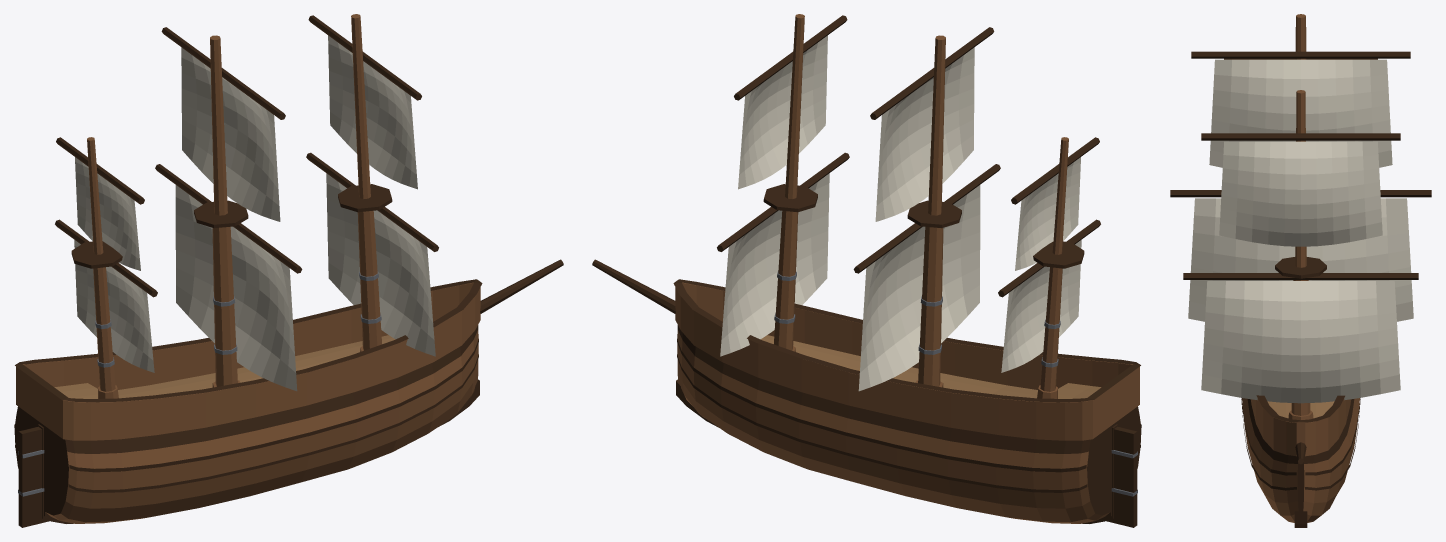
Rendered from SN_Ship_Prototype.glb.
3 views of the same model, side by side, from view 1: azimuth 30°, elevation 25°; view 2: azimuth 150°, elevation 25°; view 3: azimuth 270°, elevation 25° (orthographic). The views are drawn at different scales.
Visible parts, largest first — view 1: SN_Hull, SN_Bulwark, SN_Sail_Main_Lower, SN_Sail_Main_Upper, SN_Sail_Fore_Lower, SN_Sail_Fore_Upper, SN_Mast_Main, SN_Sail_Mizzen_Lower, SN_Mast_Fore, SN_Sail_Mizzen_Upper, SN_Rail_Cap, SN_Mast_Mizzen (+14 smaller); view 2: SN_Hull, SN_Bulwark, SN_Sail_Main_Lower, SN_Sail_Main_Upper, SN_Sail_Fore_Lower, SN_Sail_Fore_Upper, SN_Mast_Main, SN_Sail_Mizzen_Lower, SN_Mast_Fore, SN_Sail_Mizzen_Upper, SN_Rail_Cap, SN_Mast_Mizzen (+14 smaller); view 3: SN_Sail_Fore_Lower, SN_Sail_Fore_Upper, SN_Sail_Main_Upper, SN_Sail_Main_Lower, SN_Hull, SN_Bulwark, SN_Yard_Main_Upper, SN_Yard_Fore_Upper, SN_Yard_Fore_Lower, SN_Mast_Fore, SN_Yard_Main_Lower, SN_Mast_Top_Fore (+5 smaller).
Part boxes in pixels (left/top/right/bottom): SN_Hull: left=14, top=325, right=478, bottom=523; SN_Bulwark: left=16, top=282, right=480, bottom=440; SN_Sail_Main_Lower: left=175, top=185, right=297, bottom=391; SN_Sail_Main_Upper: left=181, top=47, right=280, bottom=221; SN_Sail_Fore_Lower: left=326, top=173, right=435, bottom=356; SN_Sail_Fore_Upper: left=328, top=35, right=417, bottom=189; SN_Mast_Main: left=210, top=35, right=239, bottom=387; SN_Sail_Mizzen_Lower: left=74, top=240, right=154, bottom=372; SN_Mast_Fore: left=351, top=14, right=381, bottom=351; SN_Sail_Mizzen_Upper: left=75, top=157, right=140, bottom=270; SN_Rail_Cap: left=15, top=279, right=482, bottom=402; SN_Mast_Mizzen: left=87, top=137, right=118, bottom=398; SN_Hull: left=677, top=325, right=1141, bottom=523; SN_Bulwark: left=675, top=282, right=1139, bottom=440; SN_Sail_Main_Lower: left=858, top=185, right=980, bottom=391; SN_Sail_Main_Upper: left=875, top=47, right=974, bottom=221; SN_Sail_Fore_Lower: left=720, top=173, right=829, bottom=356; SN_Sail_Fore_Upper: left=738, top=35, right=827, bottom=189; SN_Mast_Main: left=916, top=35, right=945, bottom=387; SN_Sail_Mizzen_Lower: left=1001, top=240, right=1081, bottom=372; SN_Mast_Fore: left=774, top=14, right=804, bottom=351; SN_Sail_Mizzen_Upper: left=1015, top=157, right=1080, bottom=270; SN_Rail_Cap: left=673, top=279, right=1140, bottom=402; SN_Mast_Mizzen: left=1037, top=137, right=1068, bottom=398; SN_Sail_Fore_Lower: left=1201, top=281, right=1400, bottom=403; SN_Sail_Fore_Upper: left=1219, top=141, right=1382, bottom=246; SN_Sail_Main_Upper: left=1209, top=59, right=1392, bottom=167; SN_Sail_Main_Lower: left=1188, top=198, right=1413, bottom=321; SN_Hull: left=1242, top=398, right=1359, bottom=522; SN_Bulwark: left=1251, top=398, right=1350, bottom=456; SN_Yard_Main_Upper: left=1191, top=51, right=1410, bottom=58; SN_Yard_Fore_Upper: left=1201, top=133, right=1400, bottom=140; SN_Yard_Fore_Lower: left=1183, top=273, right=1418, bottom=279; SN_Mast_Fore: left=1288, top=90, right=1313, bottom=419; SN_Yard_Main_Lower: left=1170, top=190, right=1431, bottom=197; SN_Mast_Top_Fore: left=1275, top=257, right=1326, bottom=278.
Bounding box in the file's own units: 17.83 × 14.46 × 8.
